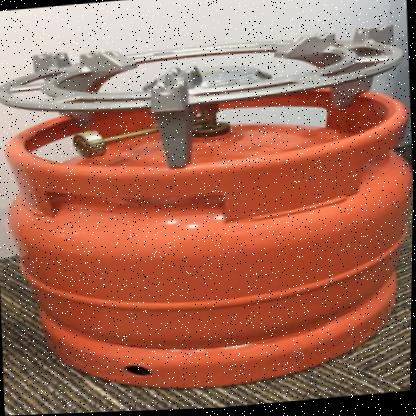gas-tank: (0, 75, 414, 415)
